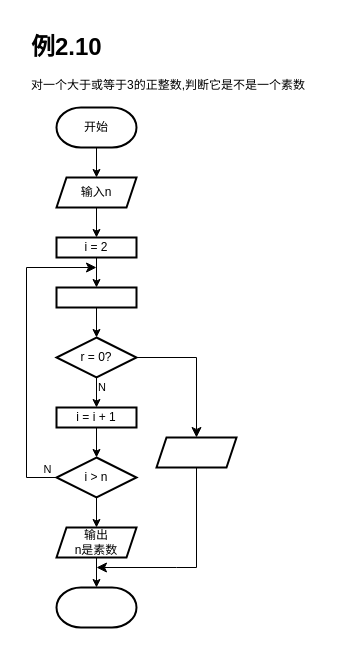
This 354x645 diagram has some shape labels left out. Here are the shapes that lost their labels. From the top down, the centre of each, then its label:
At point (96, 297): "r = n % i".
At point (196, 452): "输出 n不是素数".
At point (96, 607): "结束".
